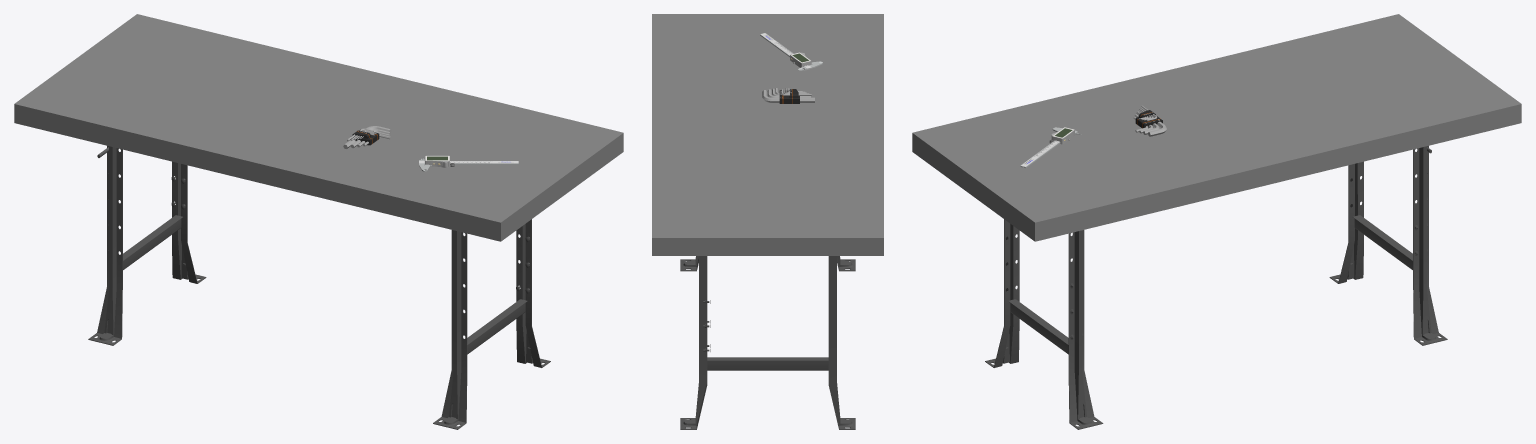
File: WorkTable.glb
The picture shows the model from 3 angles, left to right: view 1: azimuth 30°, elevation 25°; view 2: azimuth 150°, elevation 25°; view 3: azimuth 270°, elevation 25°; orthographic projection. The views are drawn at different scales.
Visible parts, largest first — view 1: TablePlane, Metal_WorkTable; view 2: TablePlane, Metal_WorkTable, #TOL0002_Stationary_5, Holder_9; view 3: TablePlane, Metal_WorkTable.
Boxes of the visible parts, box(x1,y1,x2,y2) form: TablePlane: box(14, 14, 623, 241); Metal_WorkTable: box(88, 146, 550, 429); TablePlane: box(652, 14, 883, 255); Metal_WorkTable: box(680, 256, 855, 429); #TOL0002_Stationary_5: box(760, 33, 822, 69); Holder_9: box(779, 89, 799, 103); TablePlane: box(912, 14, 1521, 241); Metal_WorkTable: box(985, 146, 1447, 429).
Bounding box in the file's own units: 1.41 × 0.7583 × 1.74.
Materials: 10 (2 with a texture image).
